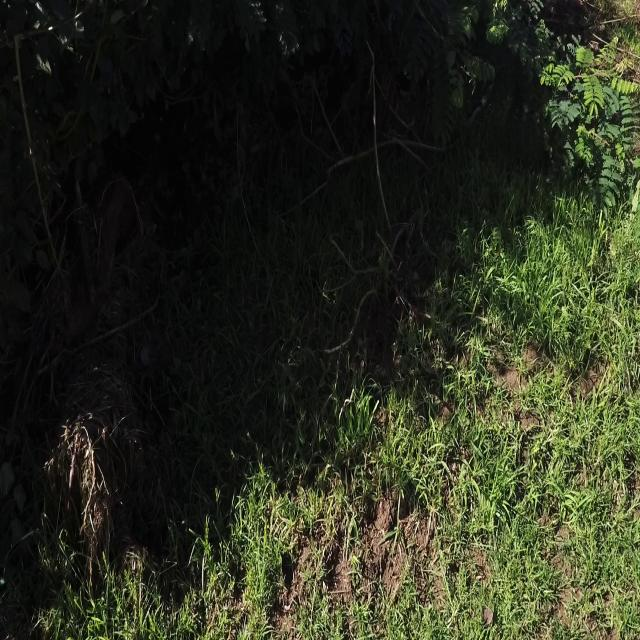Mysore-Thorn-Weed: (538, 23, 640, 204)
